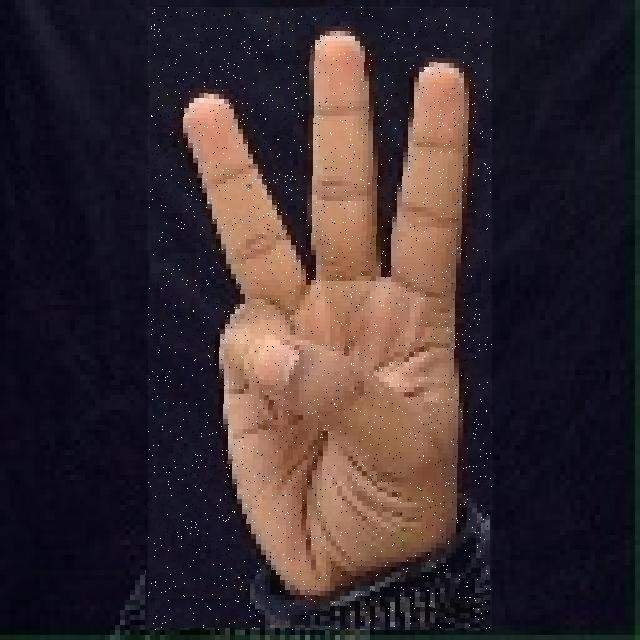Please: (148, 7, 492, 630)
